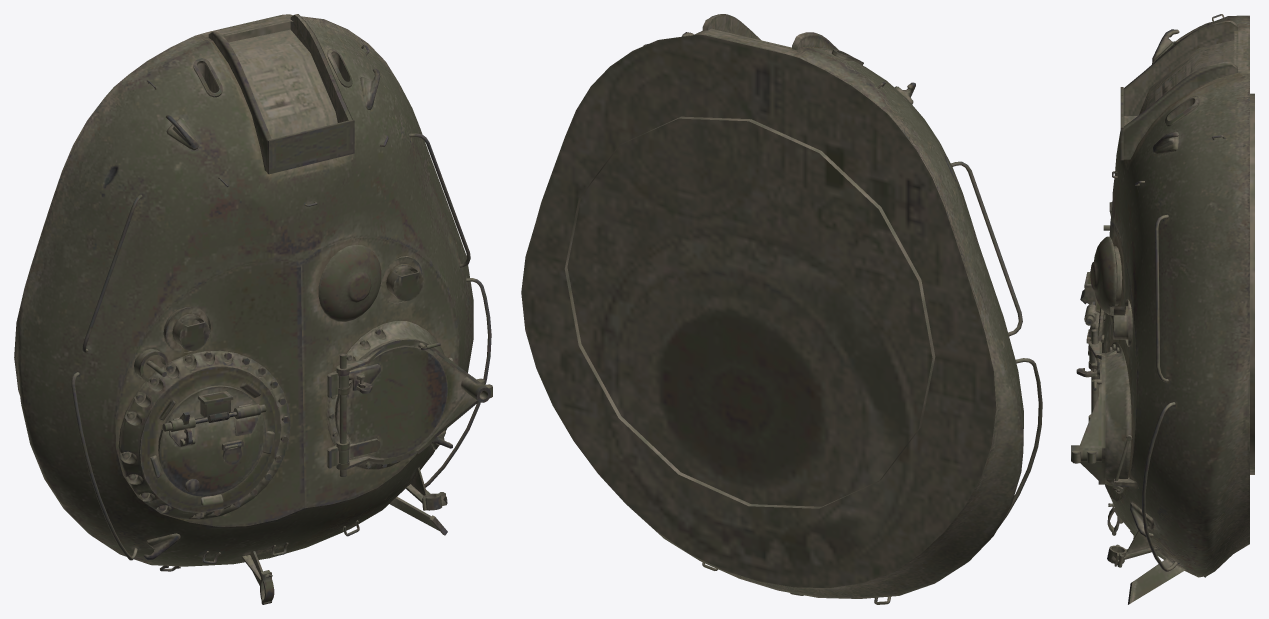
The model's file is Turret_01.glb.
The picture shows the model from 3 angles, left to right: view 1: azimuth 30°, elevation 25°; view 2: azimuth 150°, elevation 25°; view 3: azimuth 270°, elevation 25°; orthographic projection. The views are drawn at different scales.
Parts seen in each view (by area): view 1: set_0_group_0; view 2: set_0_group_0; view 3: set_0_group_0.
Boxes of the visible parts, left/top/right/bottom form: set_0_group_0: left=14, top=14, right=492, bottom=604; set_0_group_0: left=521, top=14, right=1042, bottom=604; set_0_group_0: left=1071, top=14, right=1254, bottom=604.
Bounding box in the file's own units: 2.5 × 2.82 × 0.9092.
1 material, 1 textured.
